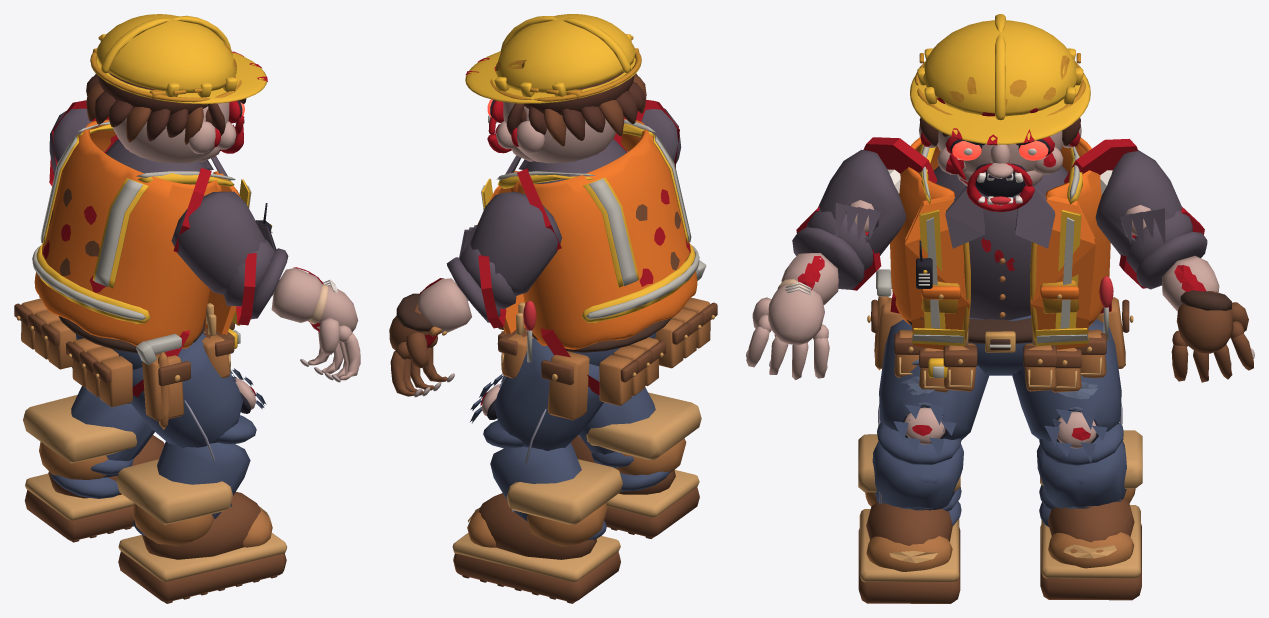
File: inf.construction-worker.glb
The picture shows the model from 3 angles, left to right: view 1: azimuth 30°, elevation 25°; view 2: azimuth 150°, elevation 25°; view 3: azimuth 270°, elevation 25°; orthographic projection. The views are drawn at different scales.
Visible parts, largest first — view 1: torso, head, footR, hip, footL, legR, armR, foreArmR, shinR, shinL, handR, armL (+2 smaller); view 2: torso, head, footL, hip, footR, legL, armL, foreArmL, handL, shinL, shinR, armR (+3 smaller); view 3: torso, head, hip, footR, footL, legR, legL, shinR, shinL, armL, armR, foreArmR (+5 smaller).
Boxes of the visible parts, left/top/right/bottom form: torso: left=32, top=119, right=272, bottom=348; head: left=86, top=14, right=267, bottom=163; footR: left=116, top=459, right=287, bottom=603; hip: left=14, top=296, right=240, bottom=429; footL: left=23, top=395, right=164, bottom=542; legR: left=130, top=332, right=266, bottom=507; armR: left=171, top=191, right=276, bottom=294; foreArmR: left=224, top=239, right=338, bottom=324; shinR: left=132, top=415, right=256, bottom=535; shinL: left=50, top=386, right=154, bottom=498; handR: left=300, top=285, right=360, bottom=382; armL: left=49, top=108, right=104, bottom=174; torso: left=477, top=119, right=699, bottom=349; head: left=465, top=14, right=646, bottom=163; footL: left=452, top=459, right=622, bottom=603; hip: left=497, top=260, right=717, bottom=420; footR: left=571, top=392, right=701, bottom=538; legL: left=470, top=338, right=603, bottom=511; armL: left=459, top=192, right=561, bottom=295; foreArmL: left=416, top=244, right=516, bottom=333; handL: left=389, top=293, right=454, bottom=397; shinL: left=483, top=420, right=606, bottom=540; shinR: left=579, top=387, right=670, bottom=491; armR: left=627, top=108, right=681, bottom=165; torso: left=890, top=137, right=1110, bottom=349; head: left=910, top=14, right=1090, bottom=211; hip: left=867, top=269, right=1133, bottom=392; footR: left=858, top=434, right=960, bottom=603; footL: left=1040, top=430, right=1142, bottom=600; legR: left=878, top=319, right=988, bottom=504; legL: left=1012, top=319, right=1122, bottom=501; shinR: left=872, top=422, right=963, bottom=526; shinL: left=1036, top=423, right=1126, bottom=526; armL: left=1095, top=150, right=1181, bottom=256; armR: left=818, top=149, right=906, bottom=255; foreArmR: left=777, top=208, right=873, bottom=304.
Size of the model in its own units: 0.6227 by 1.5 by 1.26.
